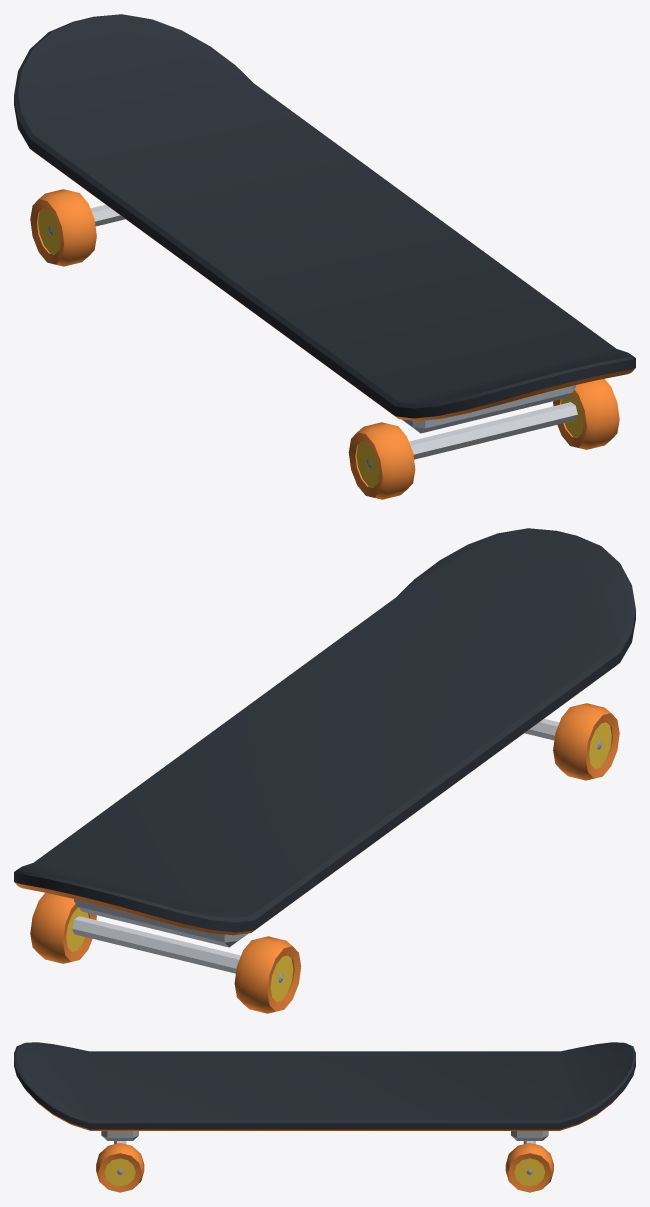
File: skate_laranja.glb
3 views of the same model, one above another, from view 1: azimuth 30°, elevation 25°; view 2: azimuth 150°, elevation 25°; view 3: azimuth 270°, elevation 25° (orthographic). The views are drawn at different scales.
Parts seen in each view (by area): view 1: skate_laranja, roda_traseira_esq, roda_dianteira_esq, roda_dianteira_dir; view 2: skate_laranja, roda_dianteira_esq, roda_traseira_esq, roda_traseira_dir; view 3: skate_laranja, roda_dianteira_dir, roda_traseira_dir.
Boxes of the visible parts, box(x1,y1,x2,y2) form: skate_laranja: box(14, 14, 635, 459); roda_traseira_esq: box(30, 189, 96, 266); roda_dianteira_esq: box(348, 422, 415, 499); roda_dianteira_dir: box(553, 378, 619, 449); skate_laranja: box(14, 528, 635, 973); roda_dianteira_esq: box(553, 703, 619, 780); roda_traseira_esq: box(234, 936, 301, 1013); roda_traseira_dir: box(30, 892, 96, 963); skate_laranja: box(14, 1042, 635, 1144); roda_dianteira_dir: box(96, 1143, 144, 1192); roda_traseira_dir: box(505, 1143, 553, 1192).
Size of the model in its own units: 0.232 by 0.1484 by 0.82.
1 material, 1 textured.
